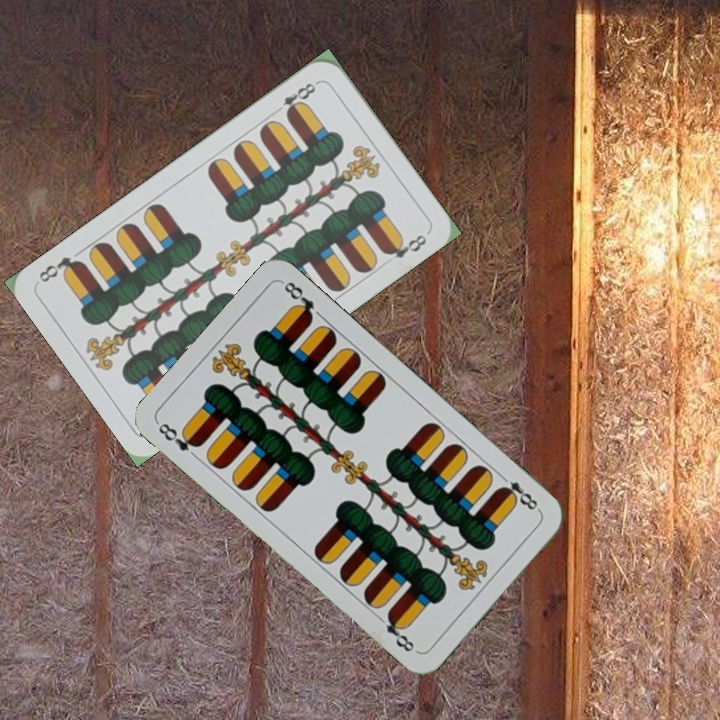E8: (495, 470, 543, 515), (278, 77, 321, 120), (153, 418, 204, 454)
